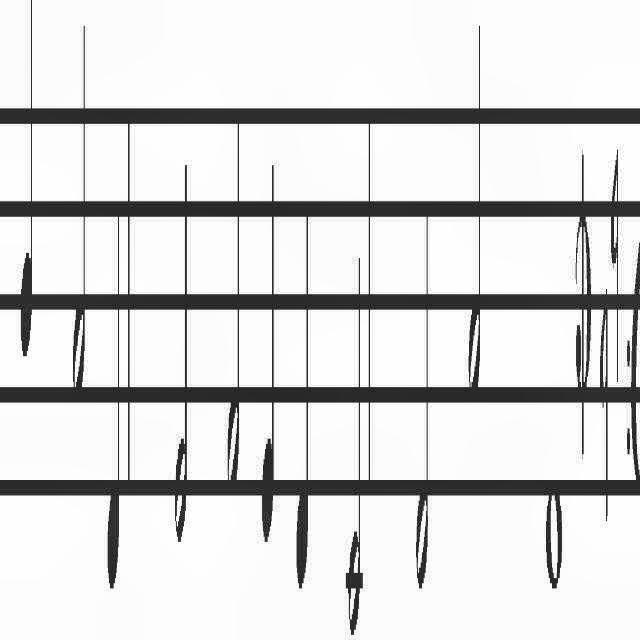Bemol: (598, 272, 612, 556), (610, 82, 622, 394)
Full-note: (544, 468, 564, 600)
Half-note: (65, 0, 91, 428), (346, 215, 366, 640), (173, 140, 191, 600), (412, 172, 428, 628), (468, 0, 484, 434), (225, 122, 242, 514)
Quarter-note: (258, 124, 278, 568), (12, 0, 36, 368), (106, 150, 122, 604), (294, 187, 310, 608)
